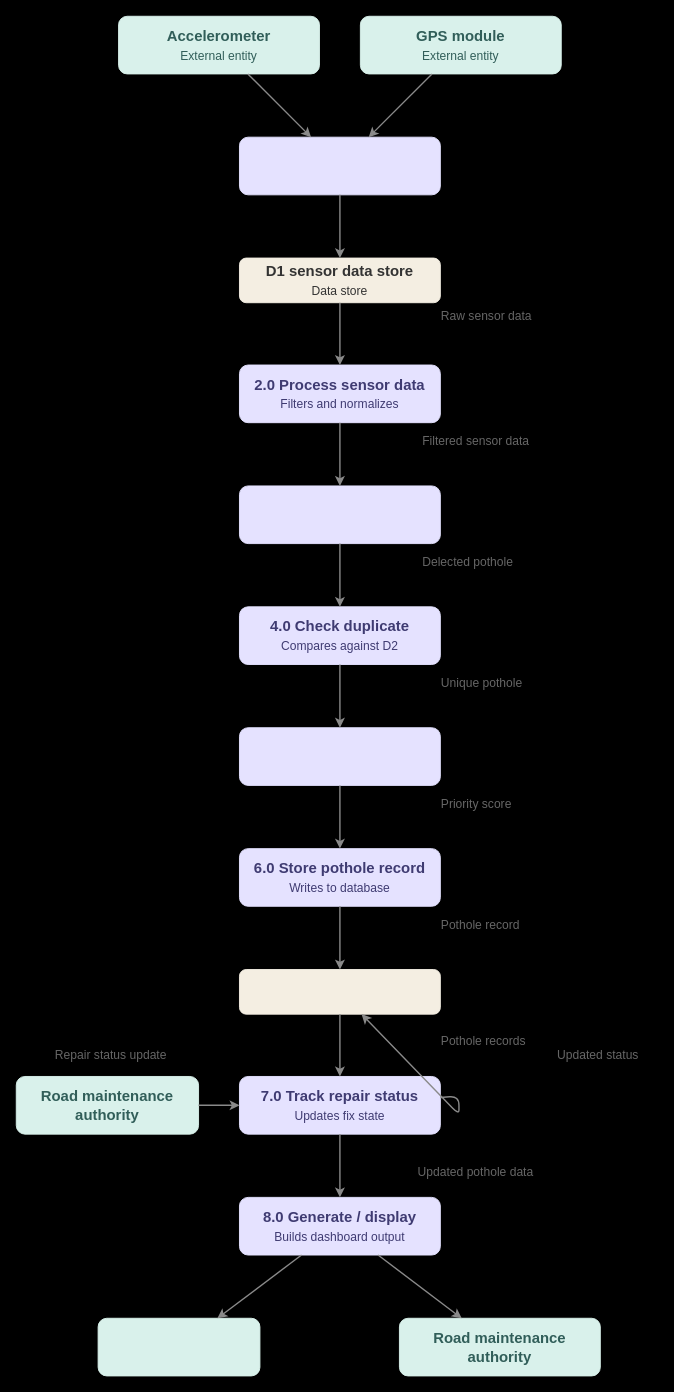
This 674x1392 diagram has some shape labels left out. The centre of each missing label's shape, as x and y in pixels:
1.0 Collect sensor data Reads accel + GPS: point (339, 165)
3.0 Detect pothole Jolt threshold + GPS tag: point (339, 514)
5.0 Calculate priority Severity + frequency score: point (339, 756)
D2 pothole database AWS RDS data store: point (339, 991)
User / driver: point (178, 1346)
